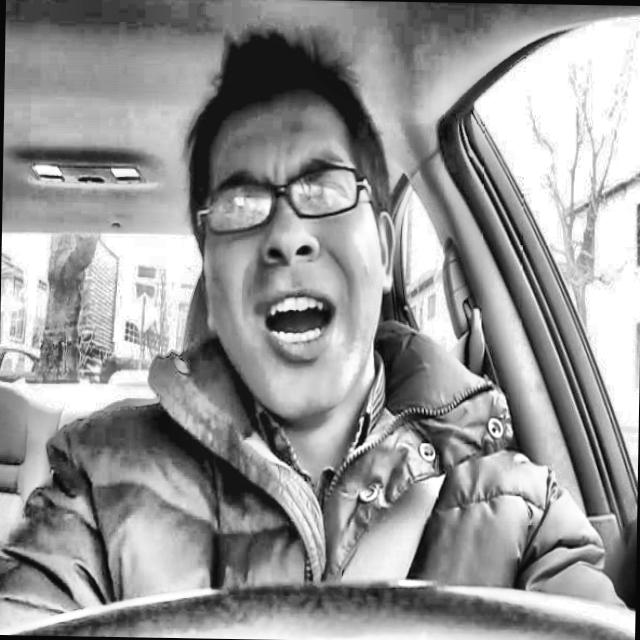open_mouth: (251, 274, 348, 379)
